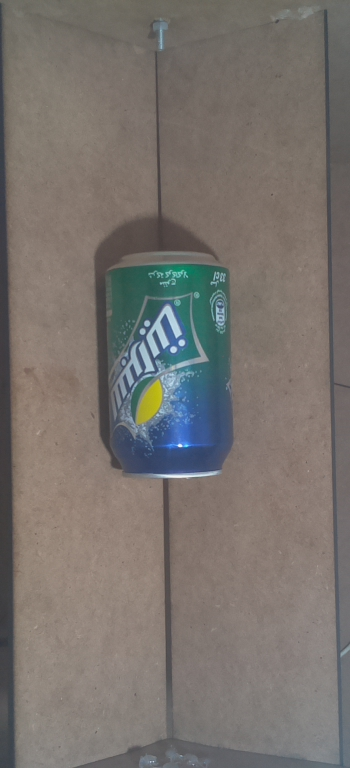Canette: (94, 235, 242, 491)
